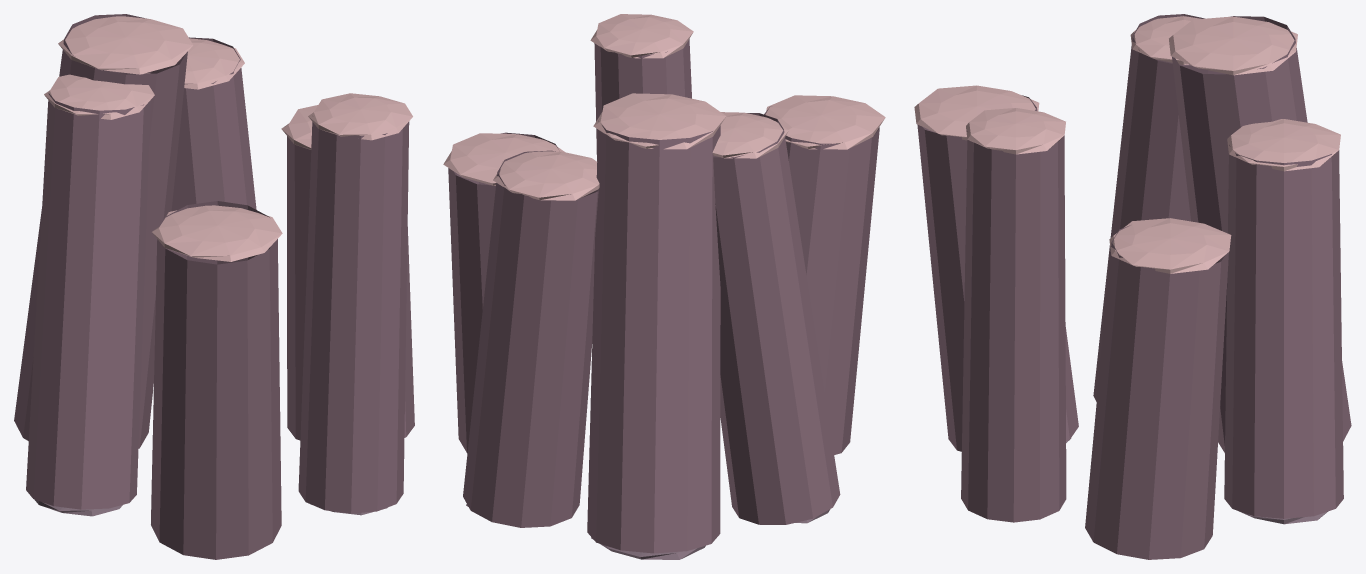
The model's file is logwood.glb.
3 views of the same model, side by side, from view 1: azimuth 30°, elevation 25°; view 2: azimuth 150°, elevation 25°; view 3: azimuth 270°, elevation 25° (orthographic). The views are drawn at different scales.
Parts seen in each view (by area): view 1: logwood; view 2: logwood; view 3: logwood.
Part boxes in pixels (x1,y1,x2,y2): logwood: [14, 14, 414, 559]; logwood: [443, 14, 885, 559]; logwood: [914, 14, 1351, 559].
Bounding box in the file's own units: 0.7816 × 0.815 × 0.784.
